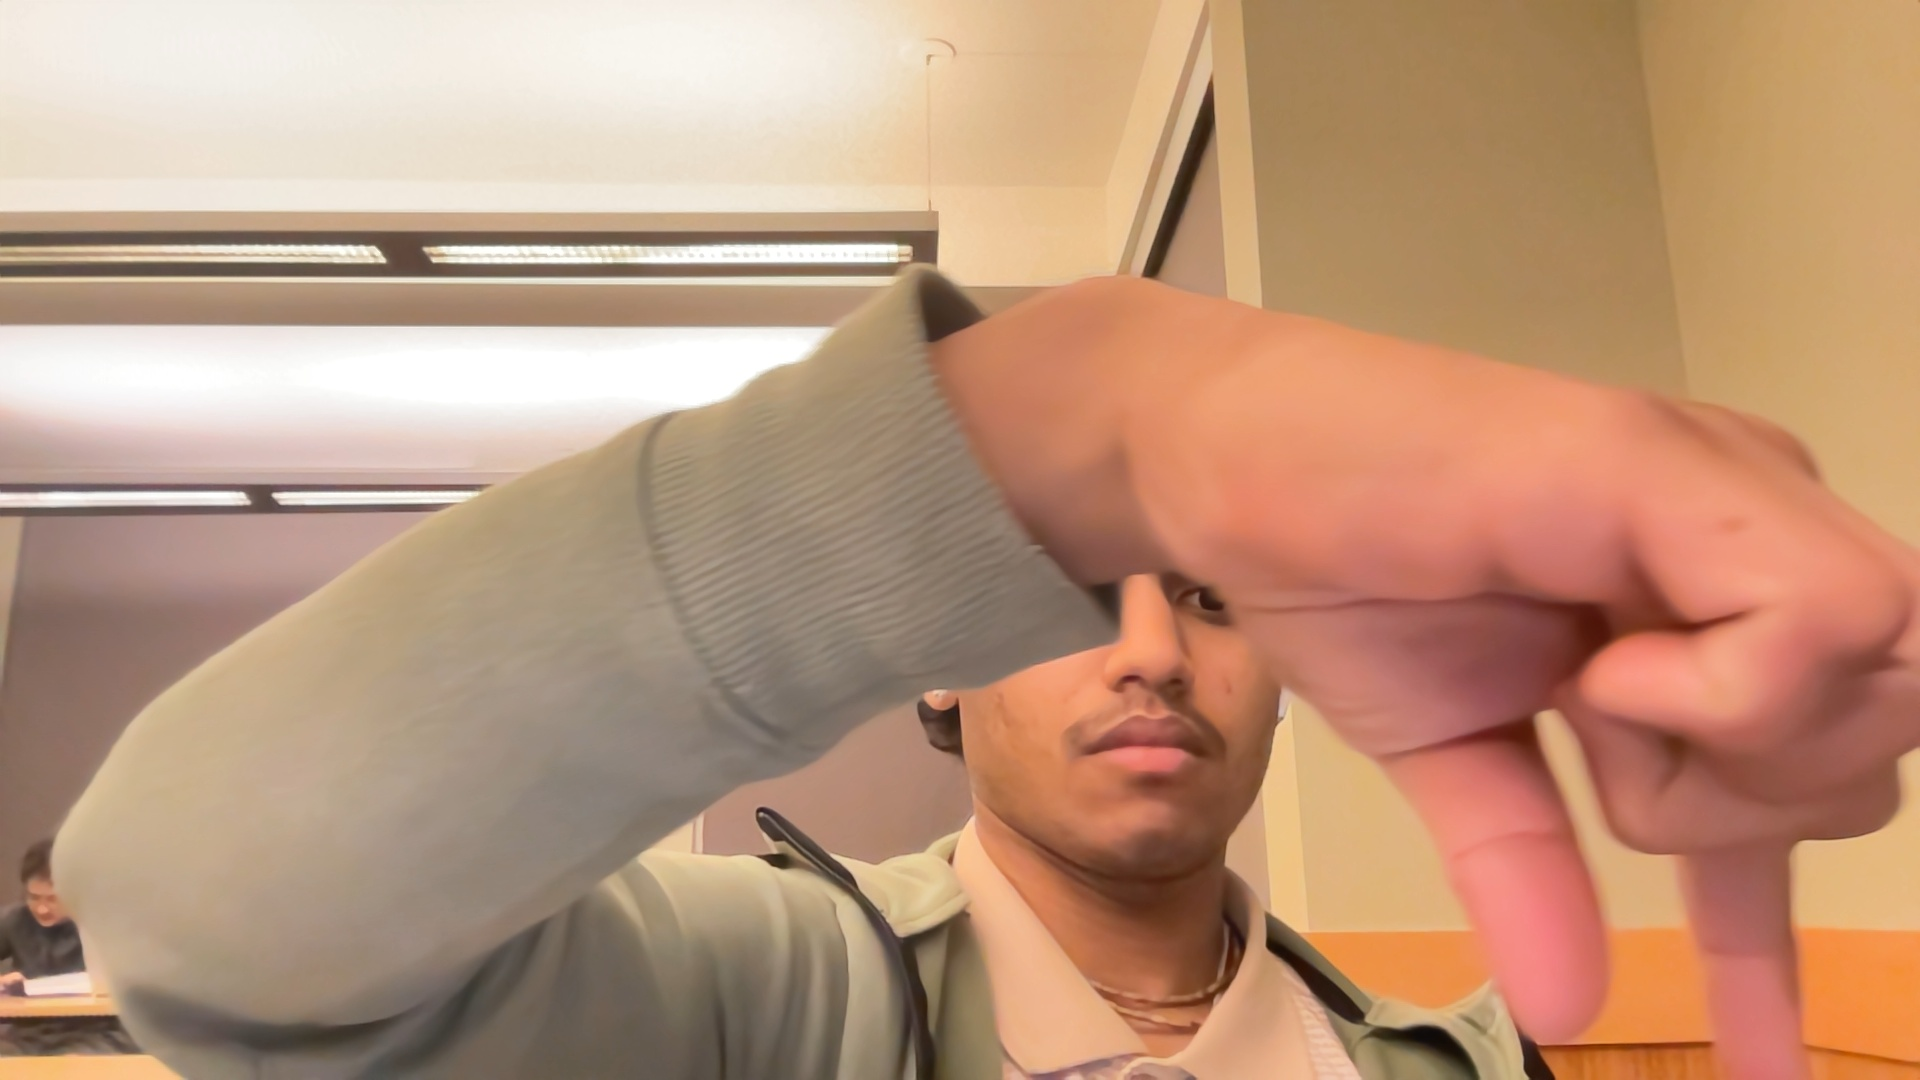q: (1276, 386, 1920, 1072)
